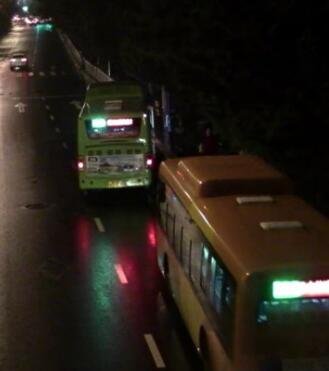bus: (158, 152, 326, 364), (78, 75, 159, 186)
car: (8, 52, 29, 68)
